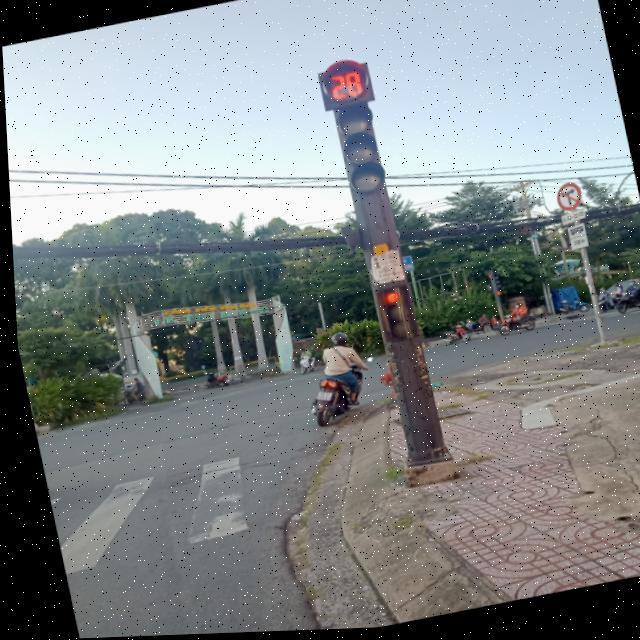Red: (372, 283, 416, 347)
